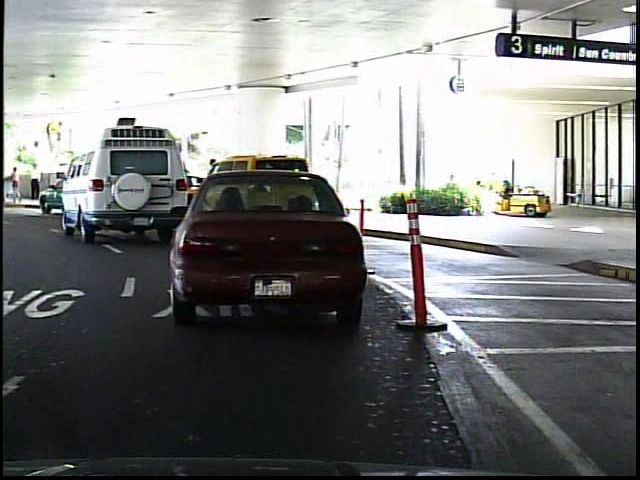person: (200, 156, 224, 218), (10, 164, 27, 204), (29, 161, 44, 204)
